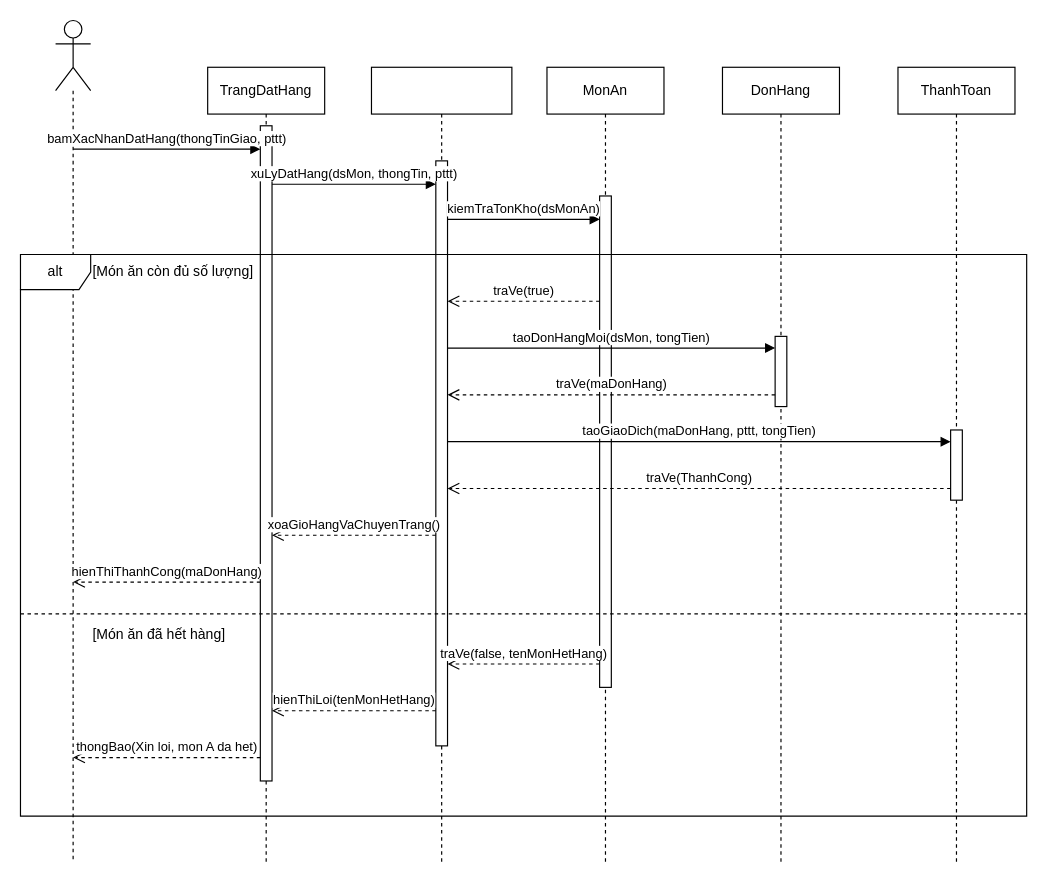
This 1048x885 diagram has some shape labels left out. Each missing label, with the centre of its shape:
HeThongDatHang: point (441, 90)
KHACHHANG: point (72, 55)
